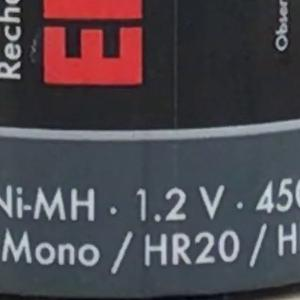HR20: (136, 221, 243, 275)
